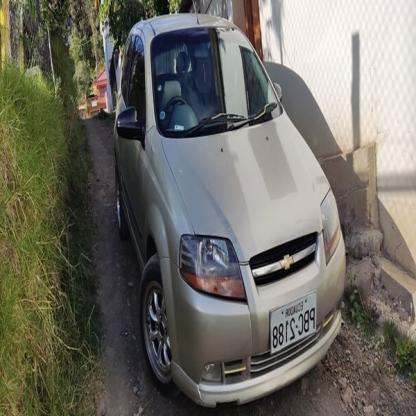Placa: (265, 288, 324, 355)
